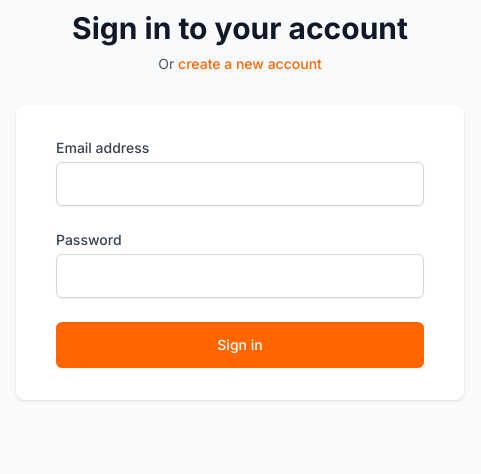
Test case: Login Page › Form Validation › should clear validation errors when user corrects input
# Submit with empty email to trigger error
Click the button "Sign in" at (240, 345), box left=56, top=322, right=424, bottom=368
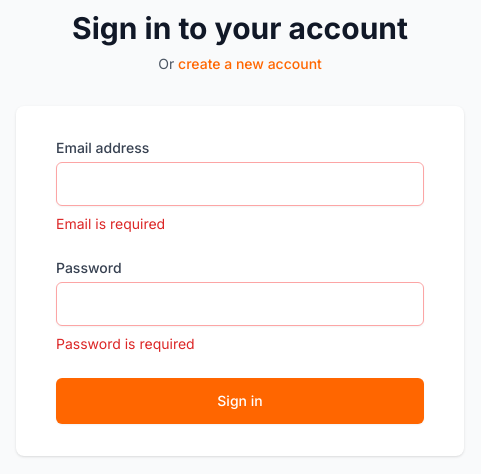
expect the text "Email is required" is shown: met, box left=56, top=215, right=165, bottom=232
# Correct the email
Type "test@example.com" into the field labelled "Email address" at (240, 184), box left=56, top=162, right=424, bottom=206
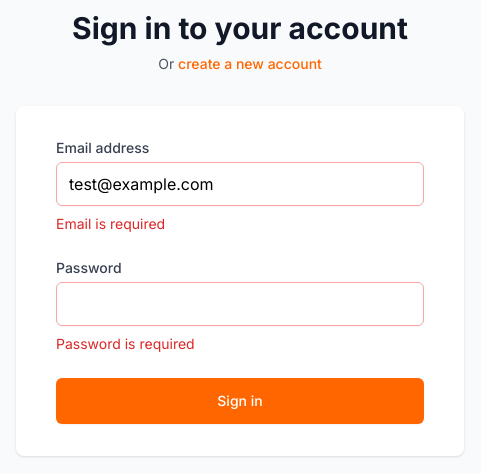
Click the button "Sign in" at (240, 401), box left=56, top=378, right=424, bottom=424
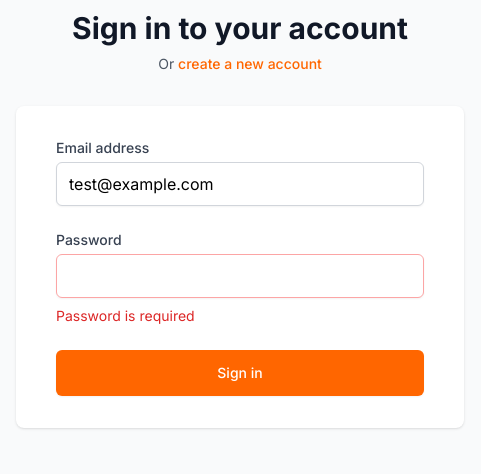
expect the text "Password is required" is shown: met, box left=56, top=307, right=195, bottom=324
expect the text "Email is required" is gone: met
